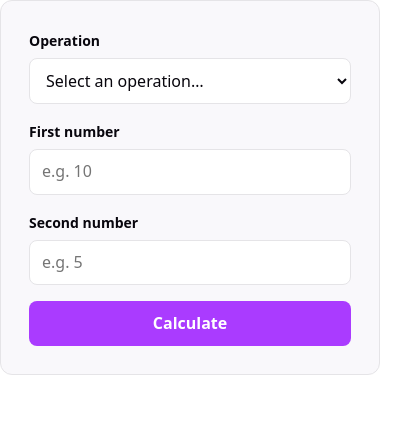
Scenario: Calculator › shows a validation error for division by zero
The width and height of the screenshot is (397, 448).
Select "Divide (a ÷ b)" in the dropdown labelled "Operation" at (190, 81), box [29,58,351,104]
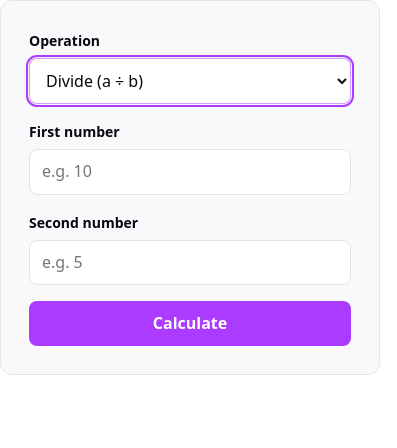
Type "10" into the field labelled "First number".
click(190, 172); type("10")  # box [29,149,351,195]
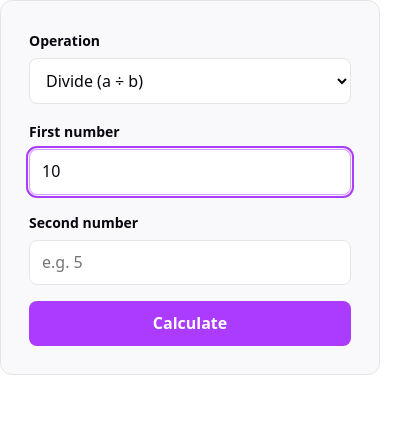
Type "0" into the field labelled "Second number".
click(190, 262); type("0")  # box [29,240,351,285]
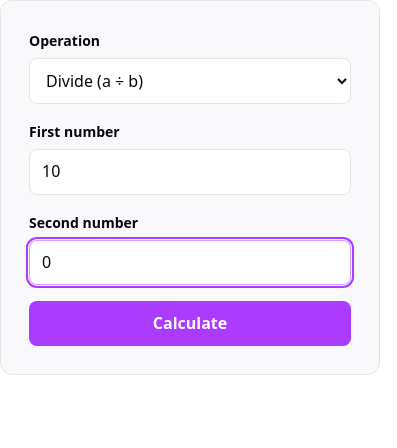
Click the button "Calculate".
click(190, 324)  # box [29,301,351,346]
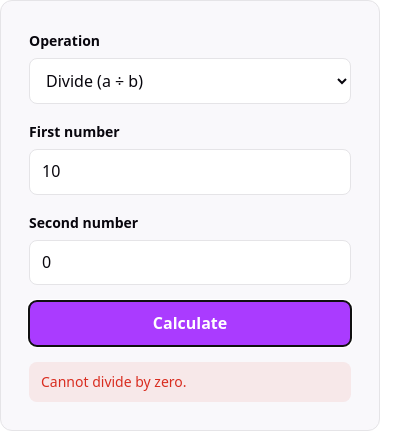
Expected: the message reads "Cannot divide by zero.", [41,372,187,391]
